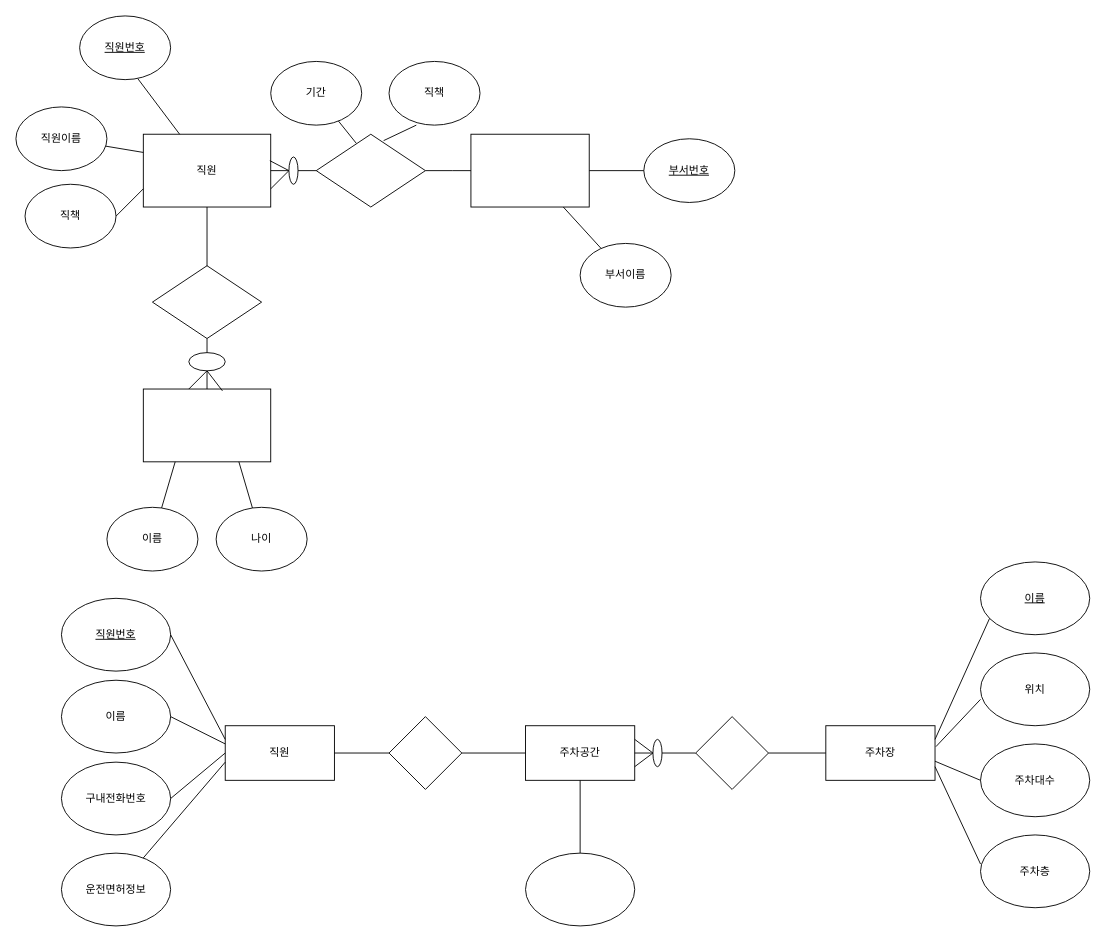
The diagram is 1106 pixels wide and 942 high, and some of its shapes have lost their labels. Here are the shapes that lost their labels. From the top down, the centre of each, then its label:
At (x=370, y=170): "근무".
At (x=529, y=170): "부서".
At (x=207, y=302): "부양".
At (x=206, y=425): "가족".
At (x=425, y=752): "요청".
At (x=731, y=752): "포함".
At (x=580, y=889): "일련번호".
